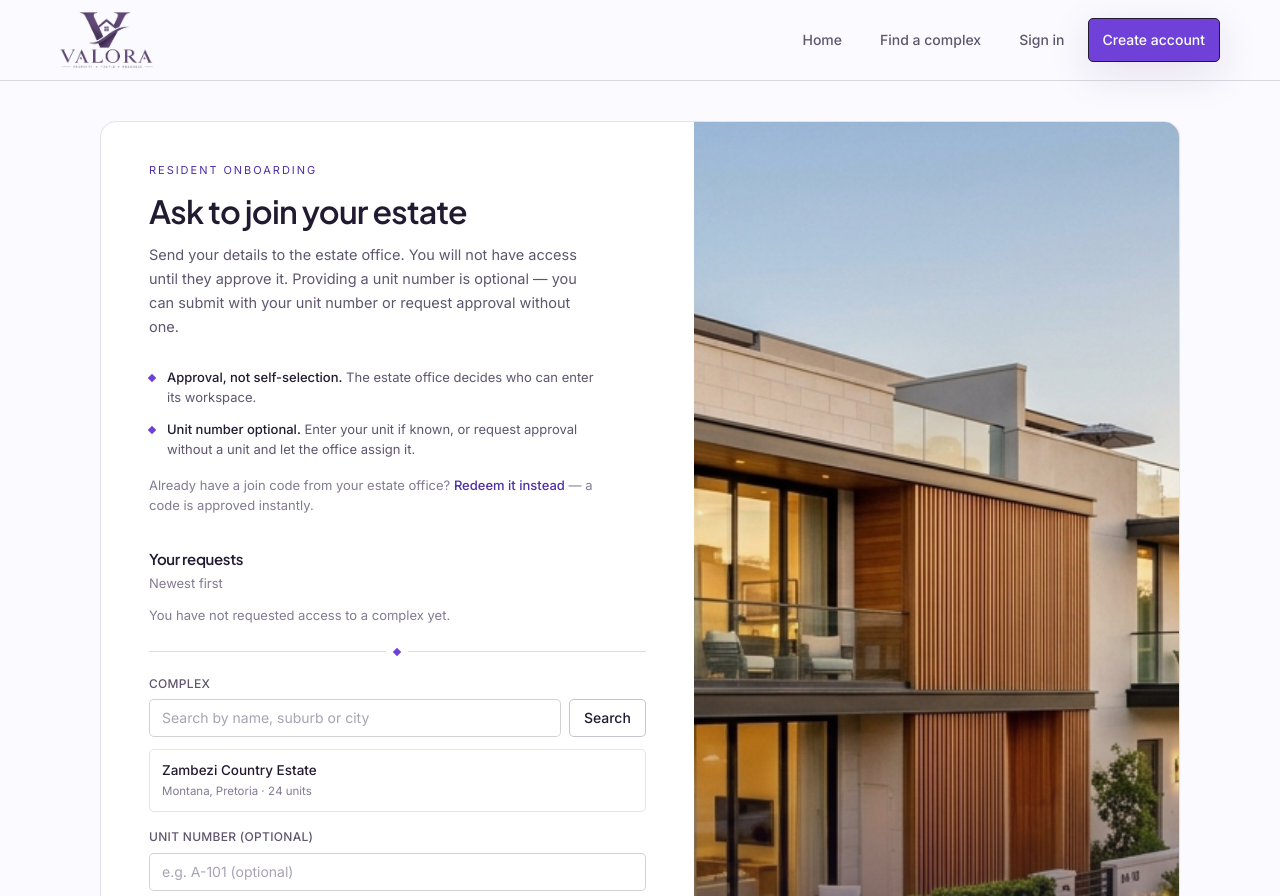
Test case: RequestAccess › submits the chosen complex and note without requiring a unit
The image size is (1280, 896).
Click the button "Zambezi Country Estate Montana, Pretoria · 24 units".
click(239, 770)  # box [149,750,646,812]
(page scrolled)
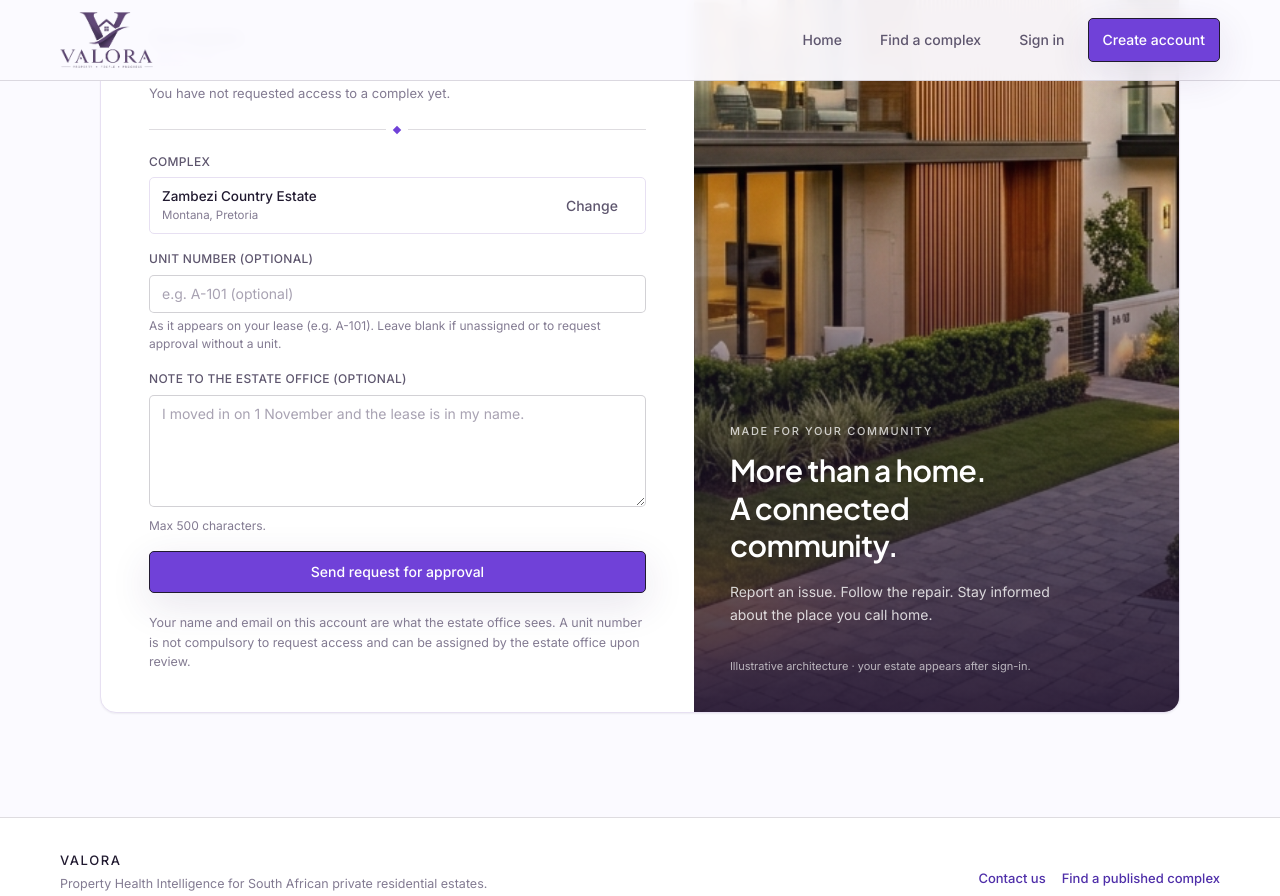
Type "Lease starts 1 Nov" into the text box labelled "Note to the estate office (optional)".
click(397, 451); type("Lease starts 1 Nov")  # box [149,395,646,507]
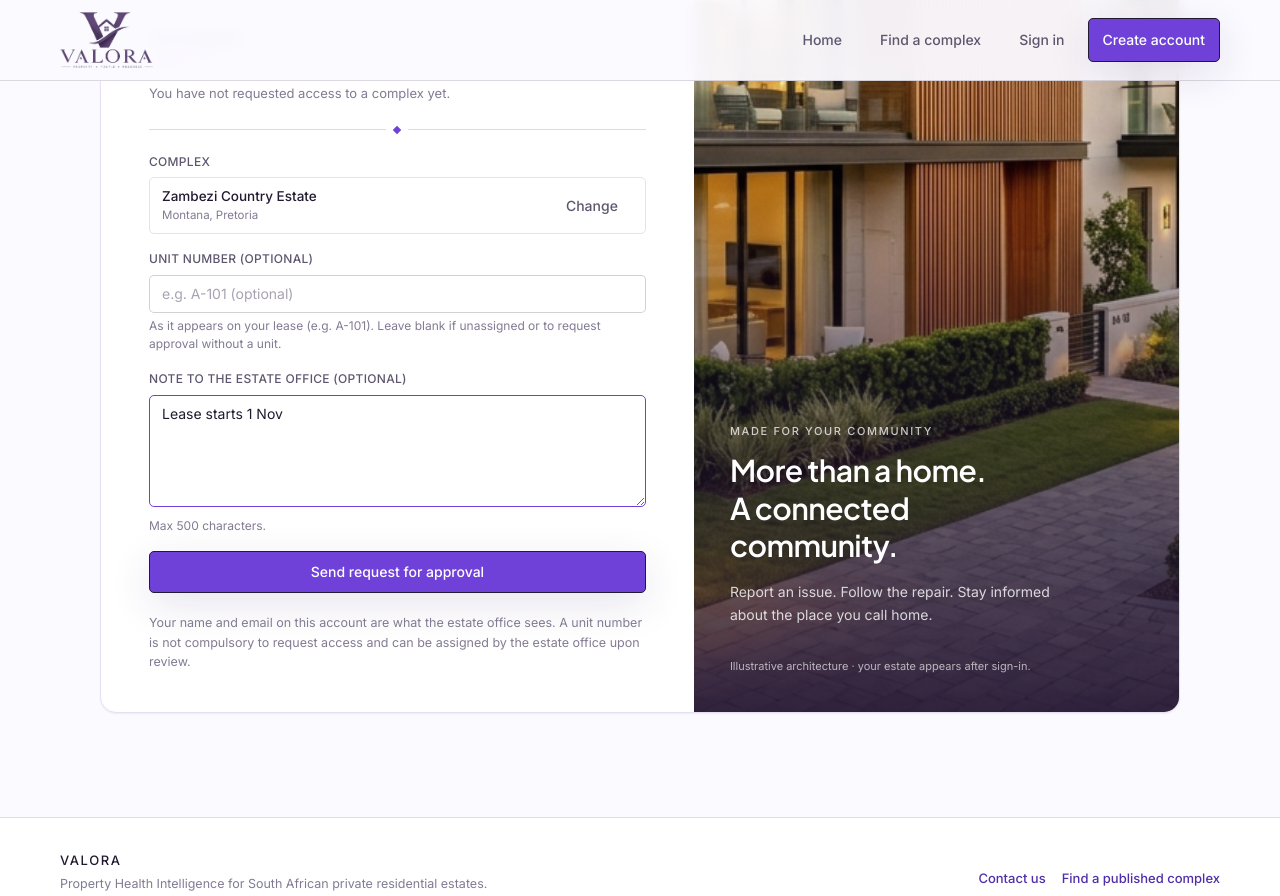
Click the button "Send request for approval".
click(397, 572)  # box [149,551,646,593]
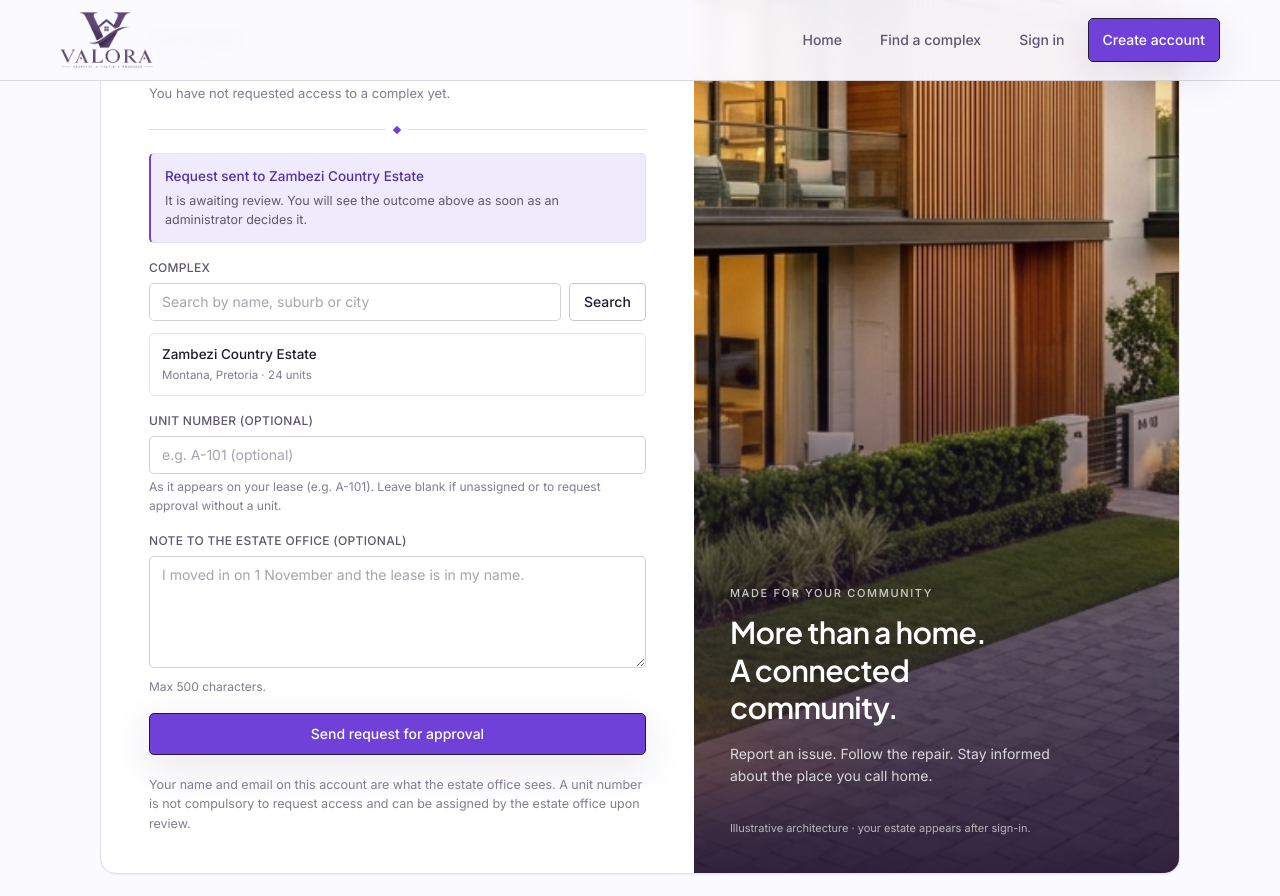
Expected: the text "Request sent to Zambezi Country Estate" is shown, [165,168,424,184]
